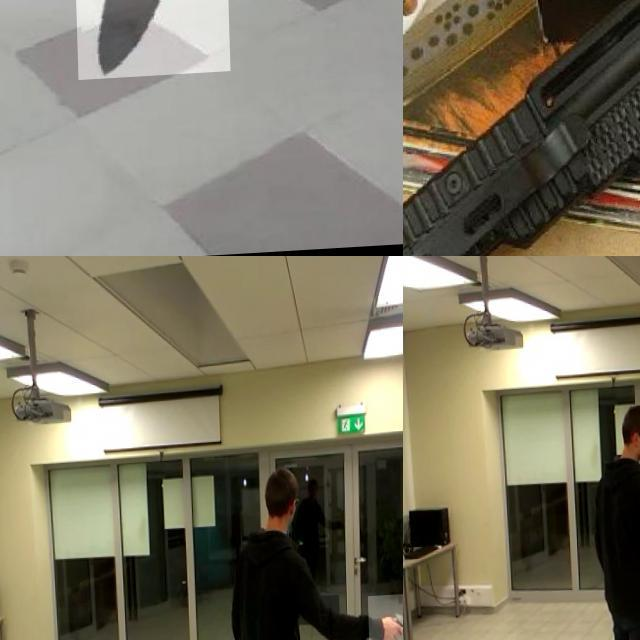-: (72, 0, 227, 82)
gun-knife-thesis - v11 Yolov5 augmented: (365, 599, 403, 640)
